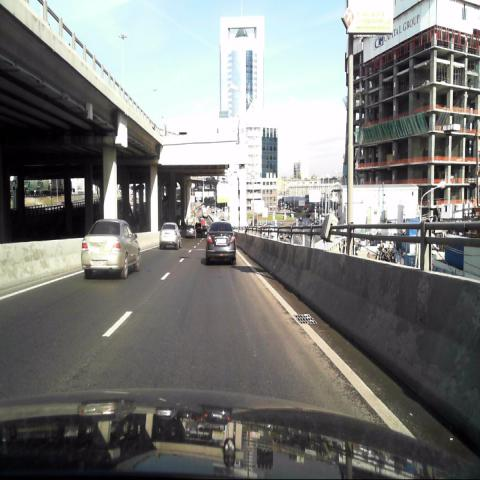3_24: (248, 169, 258, 184)
